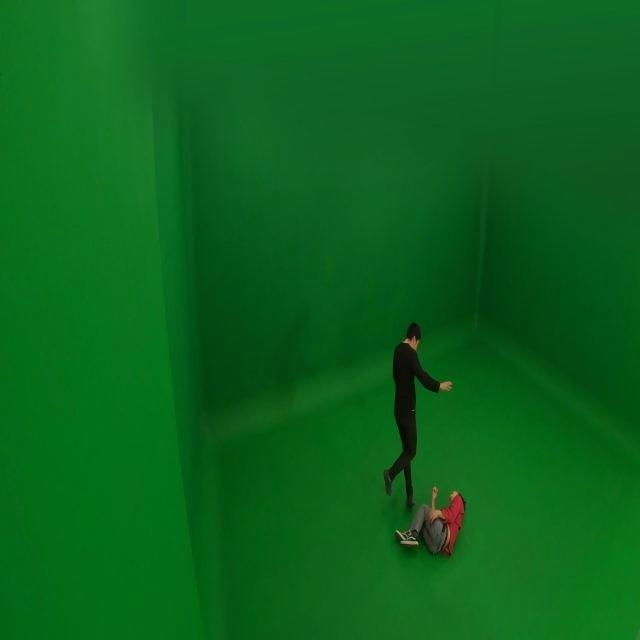fight: (380, 322, 472, 556)
